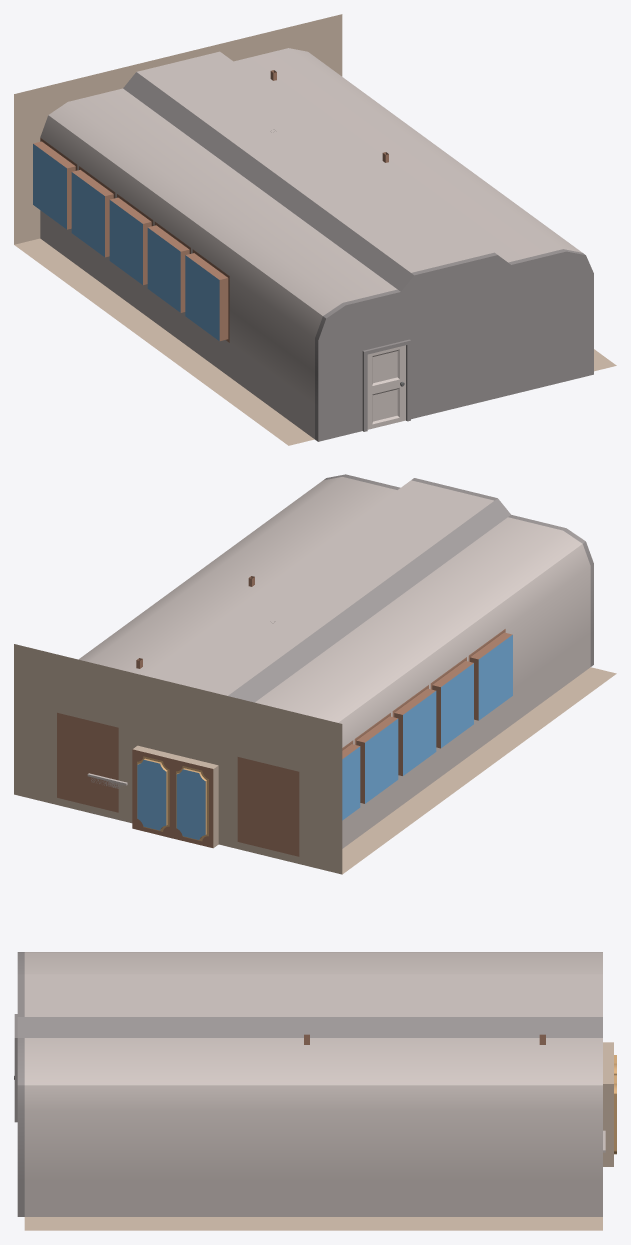
Rendered from Cafe.fbx.
3 views of the same model, one above another, from view 1: azimuth 30°, elevation 25°; view 2: azimuth 150°, elevation 25°; view 3: azimuth 270°, elevation 25° (orthographic). The views are drawn at different scales.
Visible parts, largest first — view 1: Cafe, Door; view 2: Cafe; view 3: Cafe.
Boxes of the visible parts, x1,y1,x2,y2 form: Cafe: (14,14,616,445); Door: (367,345,405,429); Cafe: (14,474,616,874); Cafe: (14,952,616,1230).
Bounding box in the file's own units: 1213 × 532 × 1832.
